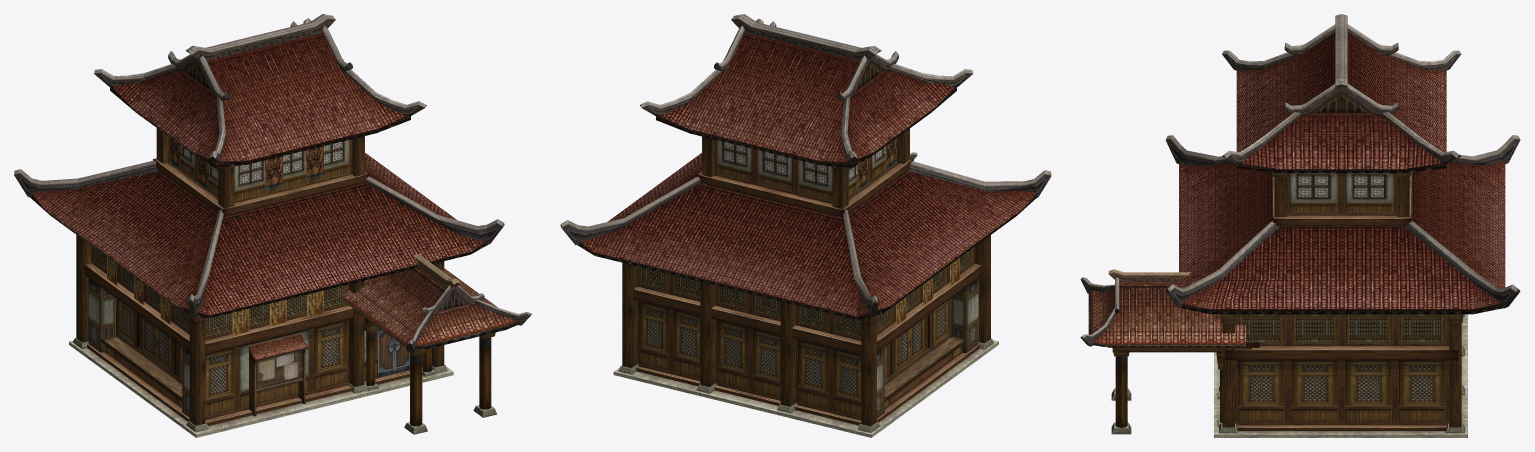
File: a1-011-workhouse.fbx
The picture shows the model from 3 angles, left to right: view 1: azimuth 30°, elevation 25°; view 2: azimuth 150°, elevation 25°; view 3: azimuth 270°, elevation 25°; orthographic projection.
Parts seen in each view (by area): view 1: a1-011-workhouse-01, a1-011-workhouse-03, a1-011-workhouse-02; view 2: a1-011-workhouse-01, a1-011-workhouse-02, a1-011-workhouse-03; view 3: a1-011-workhouse-01, a1-011-workhouse-02, a1-011-workhouse-03.
Boxes of the visible parts, left/top/right/bottom form: a1-011-workhouse-01: left=14, top=14, right=531, bottom=434; a1-011-workhouse-03: left=69, top=158, right=519, bottom=437; a1-011-workhouse-02: left=88, top=137, right=422, bottom=419; a1-011-workhouse-01: left=560, top=14, right=1051, bottom=432; a1-011-workhouse-02: left=637, top=138, right=978, bottom=420; a1-011-workhouse-03: left=613, top=159, right=998, bottom=437; a1-011-workhouse-01: left=1080, top=14, right=1520, bottom=434; a1-011-workhouse-02: left=1235, top=173, right=1448, bottom=425; a1-011-workhouse-03: left=1088, top=172, right=1467, bottom=437.
Size of the model in its own units: 13.67 by 13.55 by 16.44.
